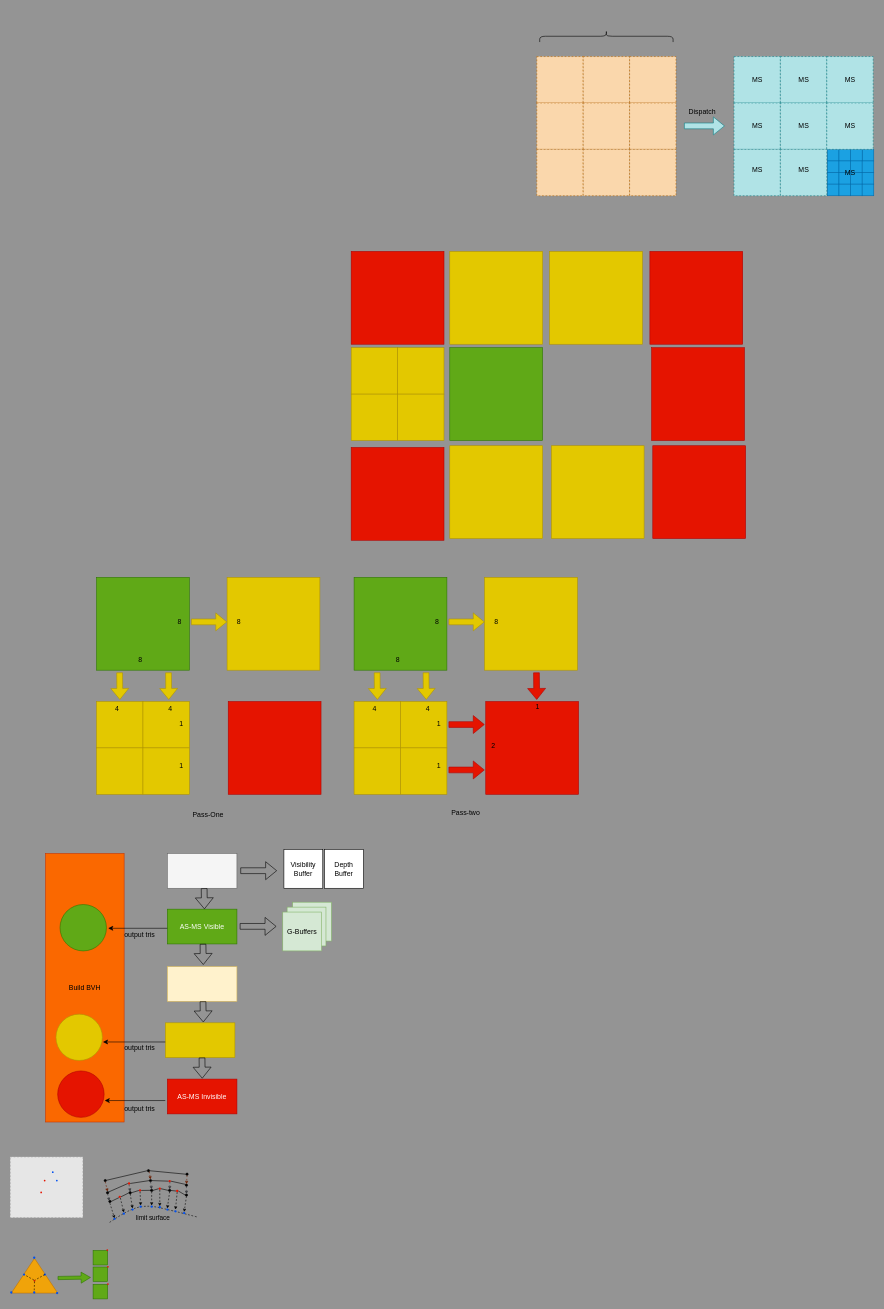
The diagram is 884 pixels wide and 1309 high, and some of its shapes have lost their labels. Grey dashed boxes stand in for pictures. Each missing label, with the centre of its shape:
"AS" belongs at point 606,36.
"AS-MS Adj" belongs at point 200,1040.
"CS Two-Passes Propation" belongs at point 202,983.
"pre-pass AS-MS" belongs at point 202,870.
